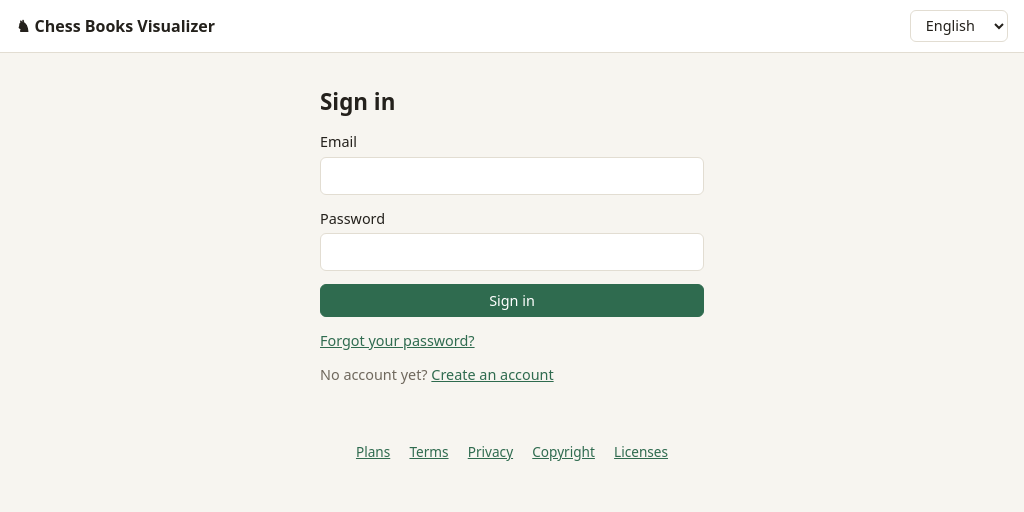
limits on the work and the tries › asks to wait after too many tries
The image size is (1024, 512).
Type "ana@example.com" into the field labelled "Email".
click(512, 176); type("ana@example.com")  # box [320,157,704,195]
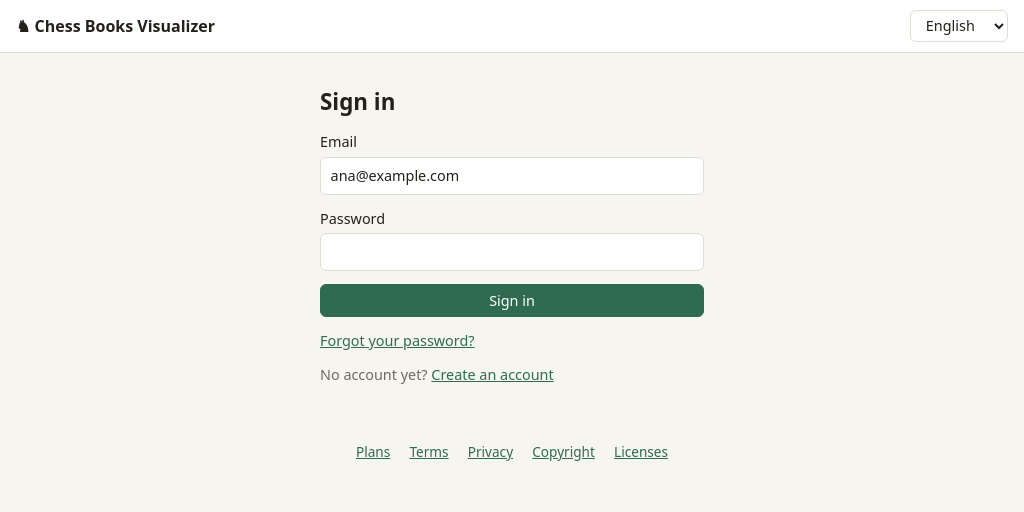
Type "wrong guess" into the password field labelled "Password".
click(512, 252); type("wrong guess")  # box [320,233,704,271]
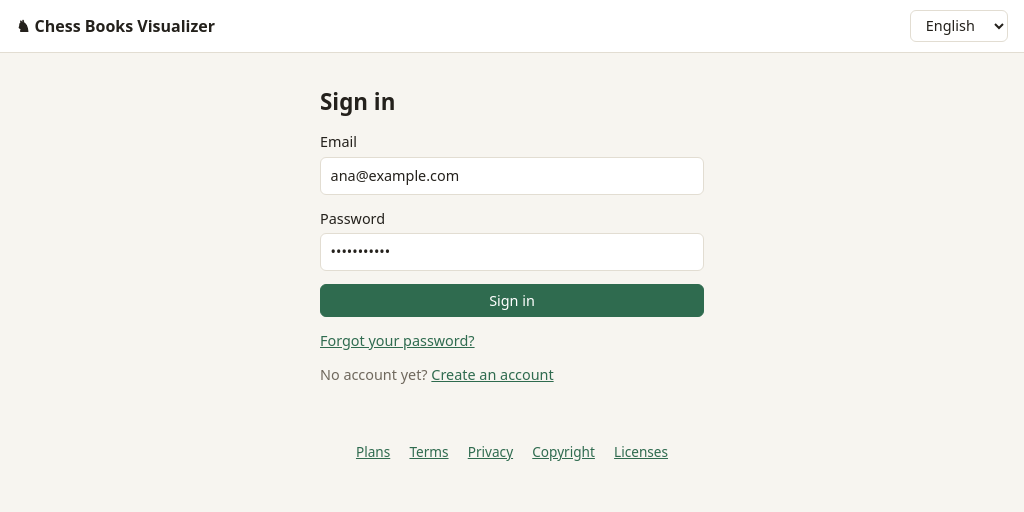
Click the button "Sign in".
click(512, 300)  # box [320,284,704,317]
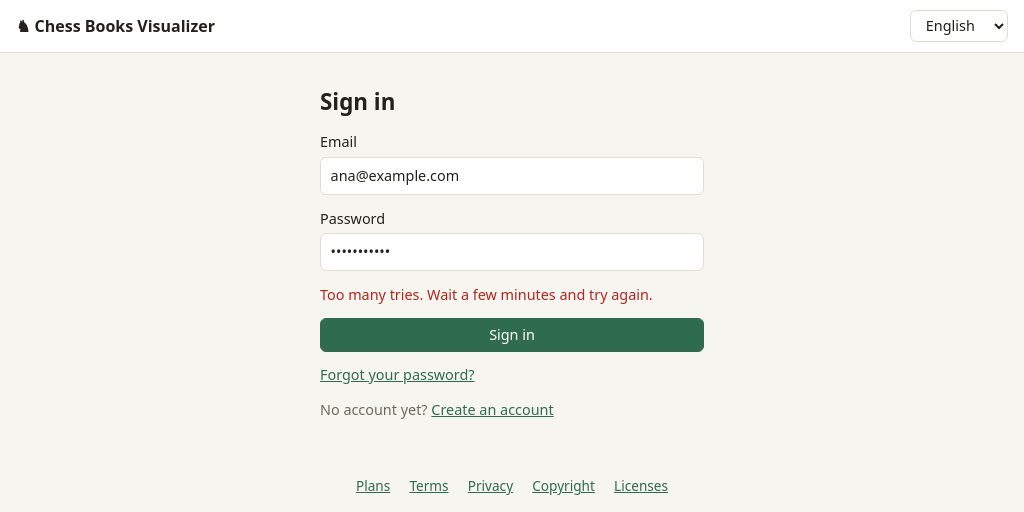
Now the message reads "Too many tries. Wait a few minutes and try again.", box [320,285,653,304]
